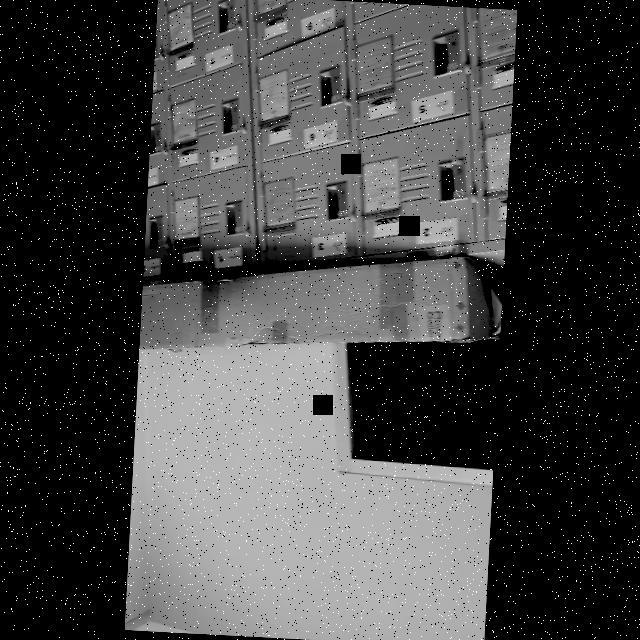cardboard_box: (137, 239, 503, 389)
